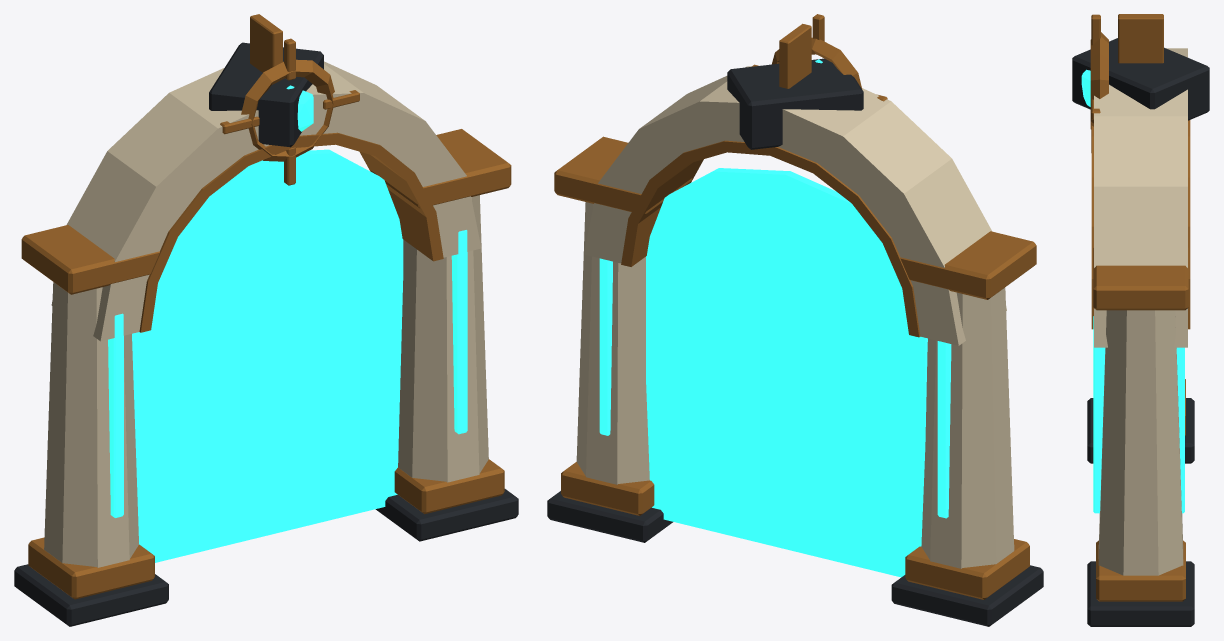
File: portal_world_forge_LOD1.glb
3 renders of one model, left to right at view 1: azimuth 30°, elevation 25°; view 2: azimuth 150°, elevation 25°; view 3: azimuth 270°, elevation 25°, orthographic. The views are drawn at different scales.
Visible parts, largest first — view 1: portal_world_forge_LOD1; view 2: portal_world_forge_LOD1; view 3: portal_world_forge_LOD1.
Part boxes in pixels (left/top/right/bottom): portal_world_forge_LOD1: left=14, top=14, right=518, bottom=626; portal_world_forge_LOD1: left=547, top=14, right=1043, bottom=626; portal_world_forge_LOD1: left=1072, top=14, right=1209, bottom=626.
Size of the model in its own units: 5.22 by 5.85 by 1.44.
